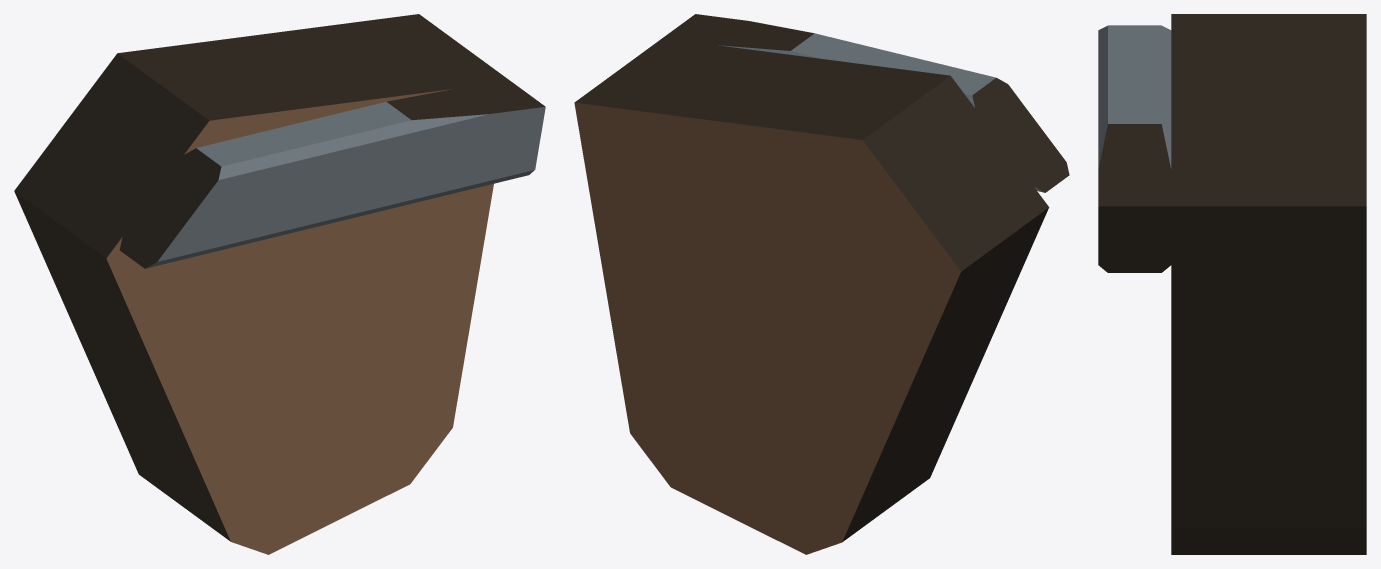
File: SM_DoorShard_03_11.fbx
3 views of the same model, side by side, from view 1: azimuth 30°, elevation 25°; view 2: azimuth 150°, elevation 25°; view 3: azimuth 270°, elevation 25° (orthographic). The views are drawn at different scales.
Visible parts, largest first — view 1: SM_DoorShard_03_11; view 2: SM_DoorShard_03_11; view 3: SM_DoorShard_03_11.
Boxes of the visible parts, x1,y1,x2,y2 form: SM_DoorShard_03_11: [14, 14, 545, 554]; SM_DoorShard_03_11: [574, 14, 1069, 554]; SM_DoorShard_03_11: [1098, 14, 1366, 554].
Size of the model in its own units: 40.58 by 22 by 42.97.
